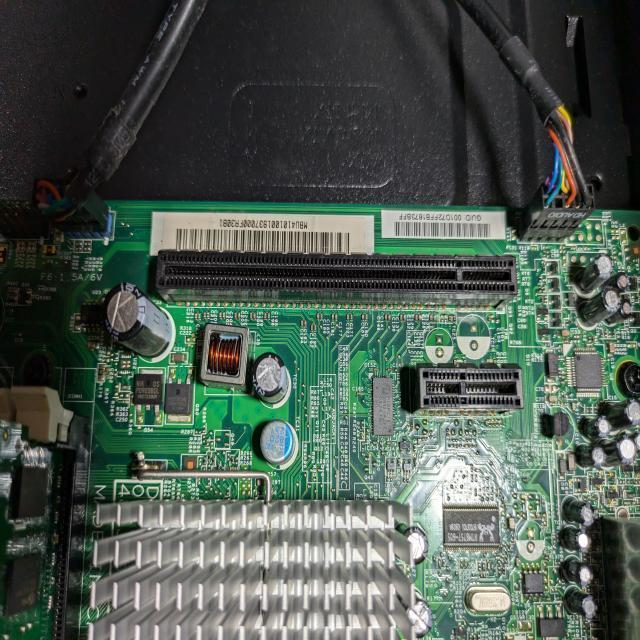Mainboard: (0, 198, 640, 640)
